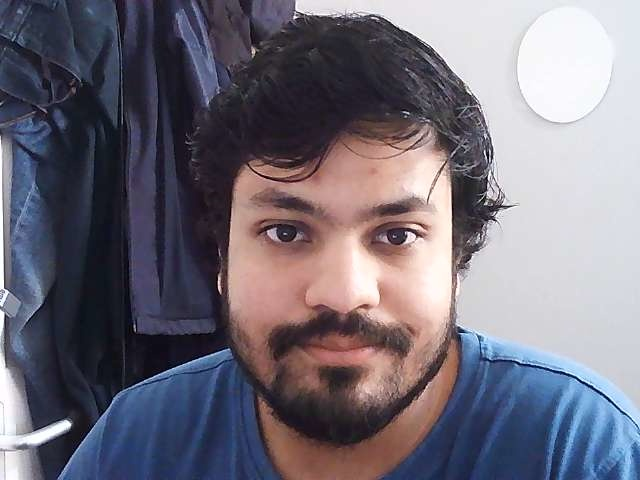Face: (182, 9, 492, 440)
